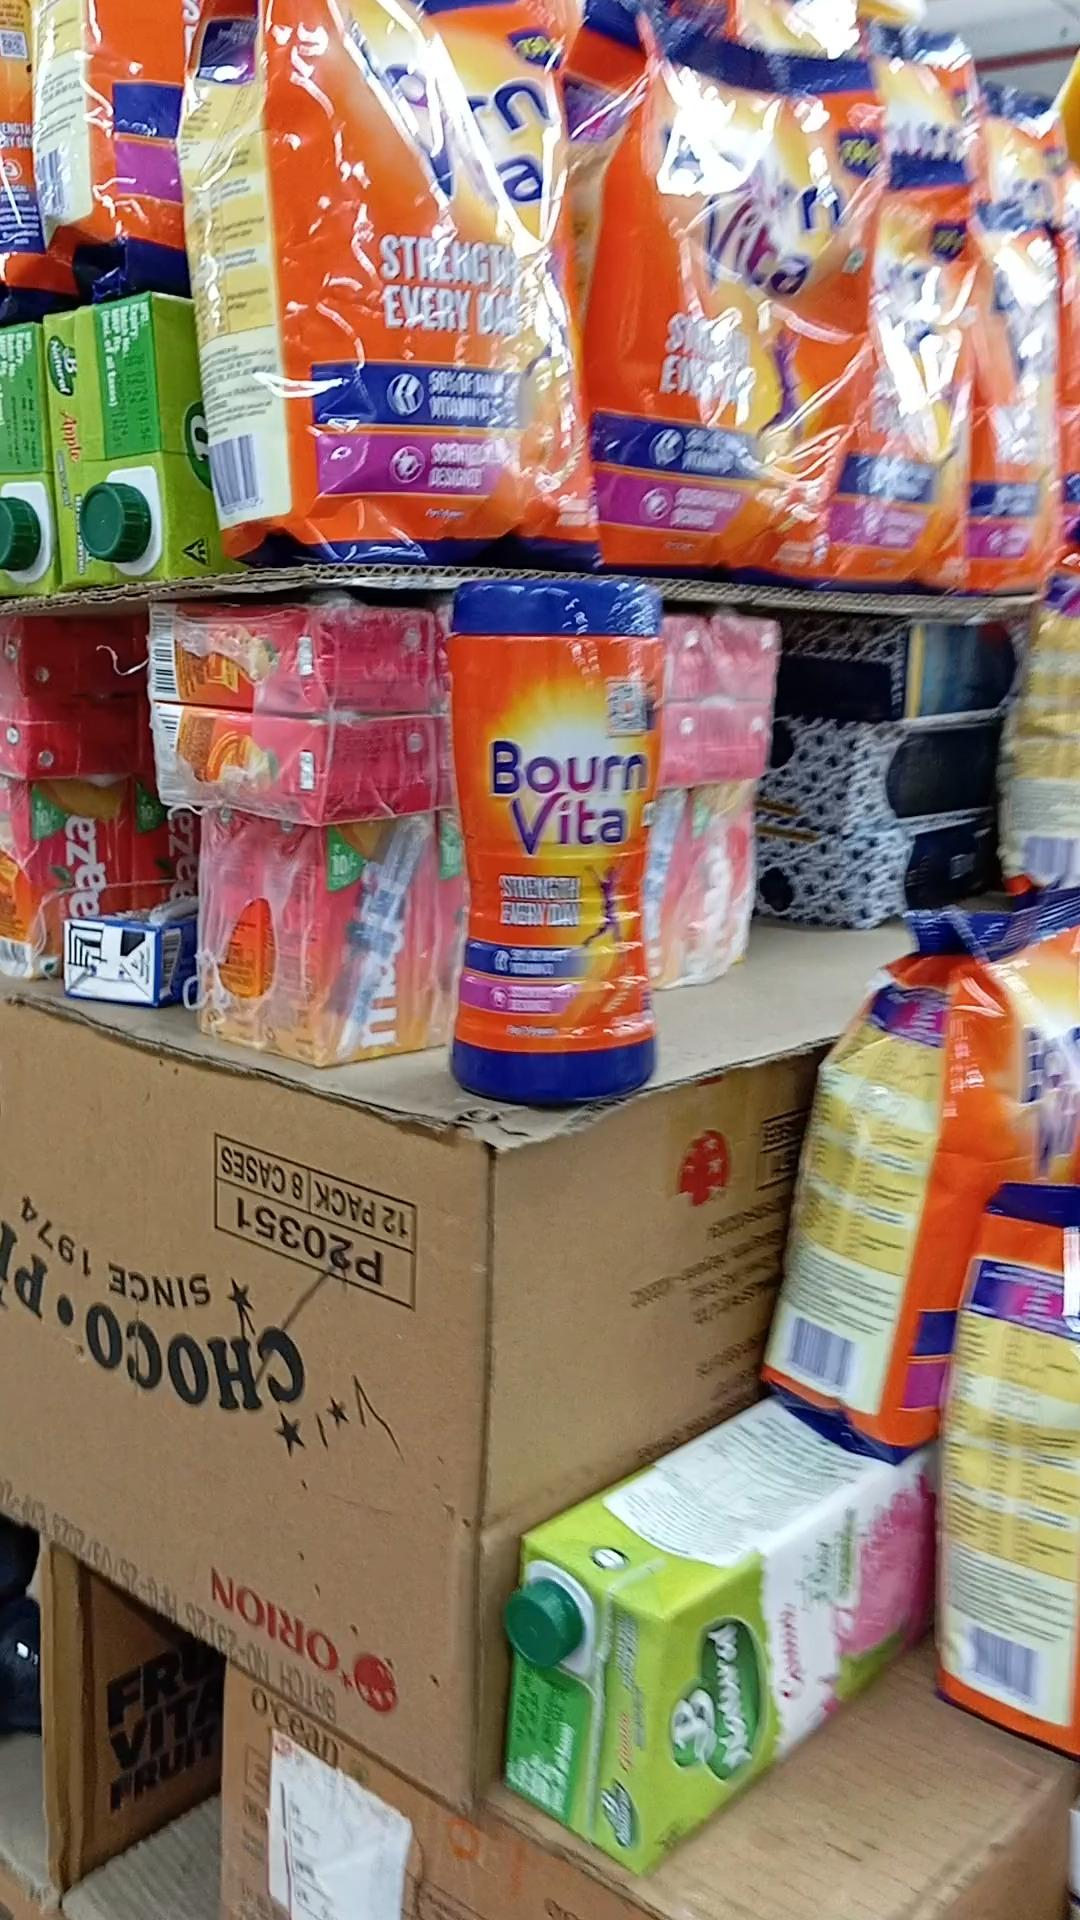BOURN_VITA_200_G_JAR: (450, 582, 654, 1104)
